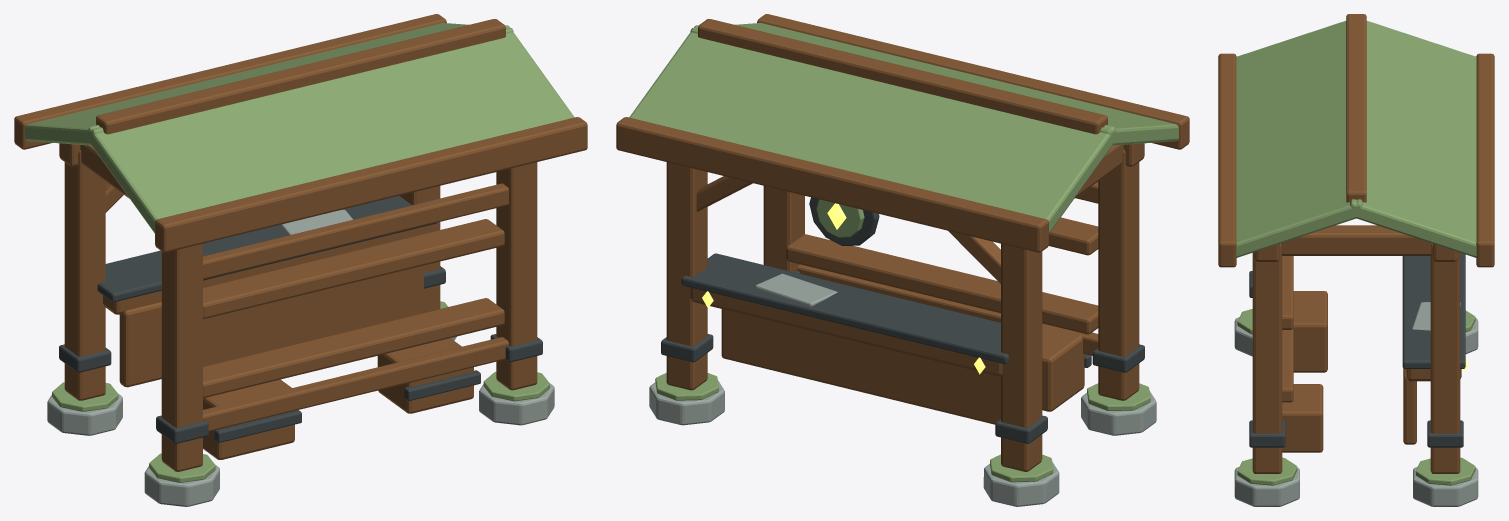
File: SM_EmbermereFenwatchVendorStall_01.fbx
3 views of the same model, side by side, from view 1: azimuth 30°, elevation 25°; view 2: azimuth 150°, elevation 25°; view 3: azimuth 270°, elevation 25° (orthographic). The views are drawn at different scales.
Parts seen in each view (by area): view 1: SM_EmbermereFenwatchVendorStall_01; view 2: SM_EmbermereFenwatchVendorStall_01; view 3: SM_EmbermereFenwatchVendorStall_01.
Boxes of the visible parts, box(x1,y1,x2,y2) form: SM_EmbermereFenwatchVendorStall_01: box(14, 14, 587, 506); SM_EmbermereFenwatchVendorStall_01: box(616, 14, 1189, 506); SM_EmbermereFenwatchVendorStall_01: box(1218, 14, 1494, 506).
Size of what is drawn, in the model's own units: 394 by 242 by 306.
